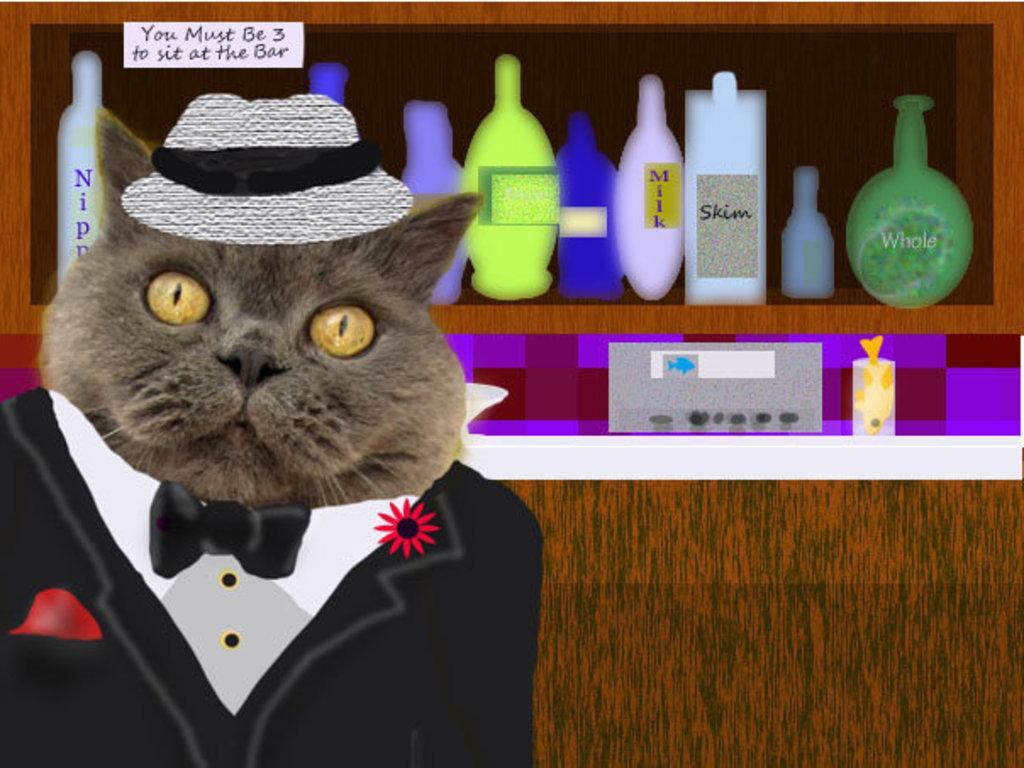Hat: (116, 87, 414, 245)
